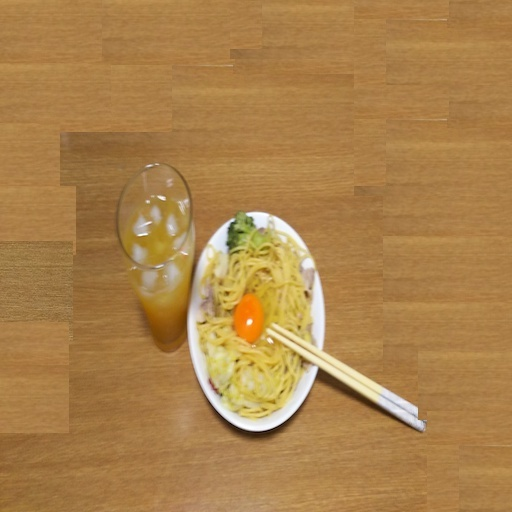drink: (115, 159, 196, 356)
pasta: (194, 213, 319, 420)
